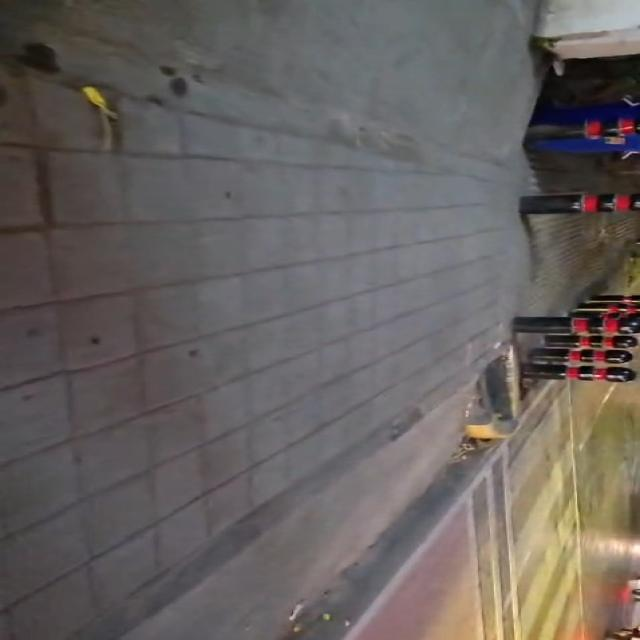bollard: (525, 118, 639, 141), (520, 194, 639, 214), (513, 317, 639, 335), (523, 364, 635, 382), (529, 348, 633, 364), (544, 335, 638, 349), (576, 302, 639, 313), (570, 310, 639, 318), (591, 295, 639, 304)
